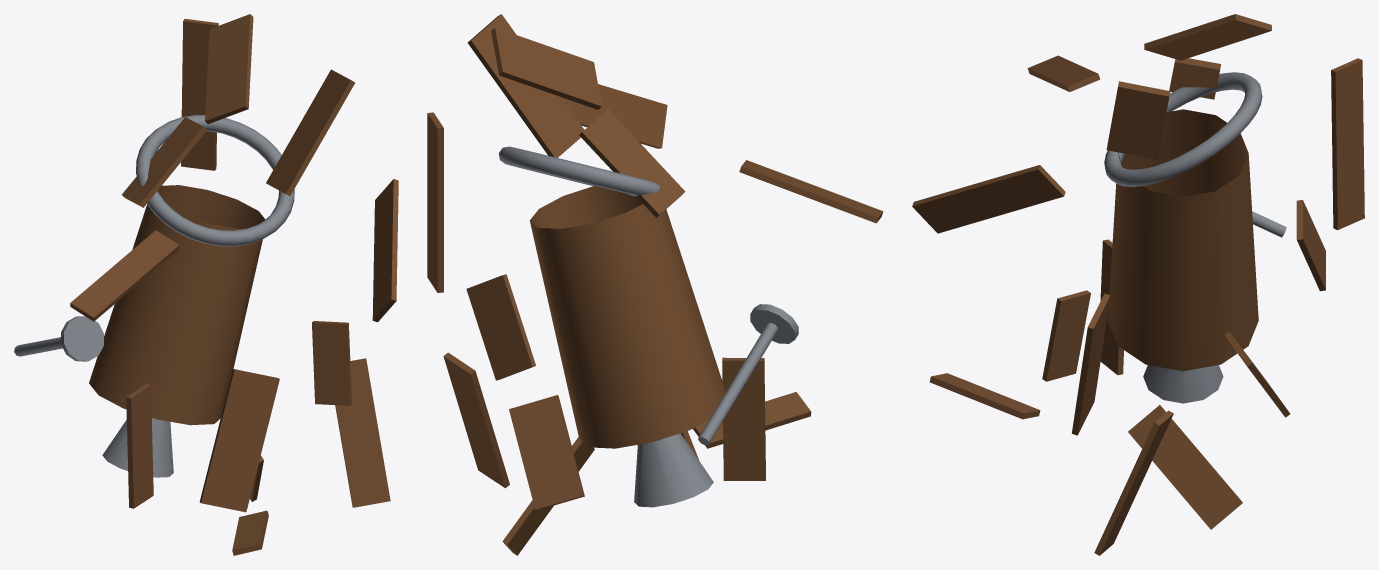
The model's file is wrack.obj.
3 views of the same model, side by side, from view 1: azimuth 30°, elevation 25°; view 2: azimuth 150°, elevation 25°; view 3: azimuth 270°, elevation 25° (orthographic). The views are drawn at different scales.
Visible parts, largest first — view 1: wrack; view 2: wrack; view 3: wrack.
Part boxes in pixels (x1,y1,x2,y2): wrack: [14, 14, 398, 555]; wrack: [427, 14, 883, 555]; wrack: [912, 14, 1364, 555].
Bounding box in the file's own units: 17.11 × 22.84 × 18.02.
